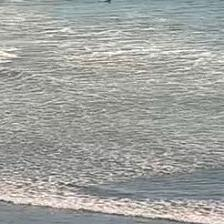surfer: (103, 0, 112, 4)
